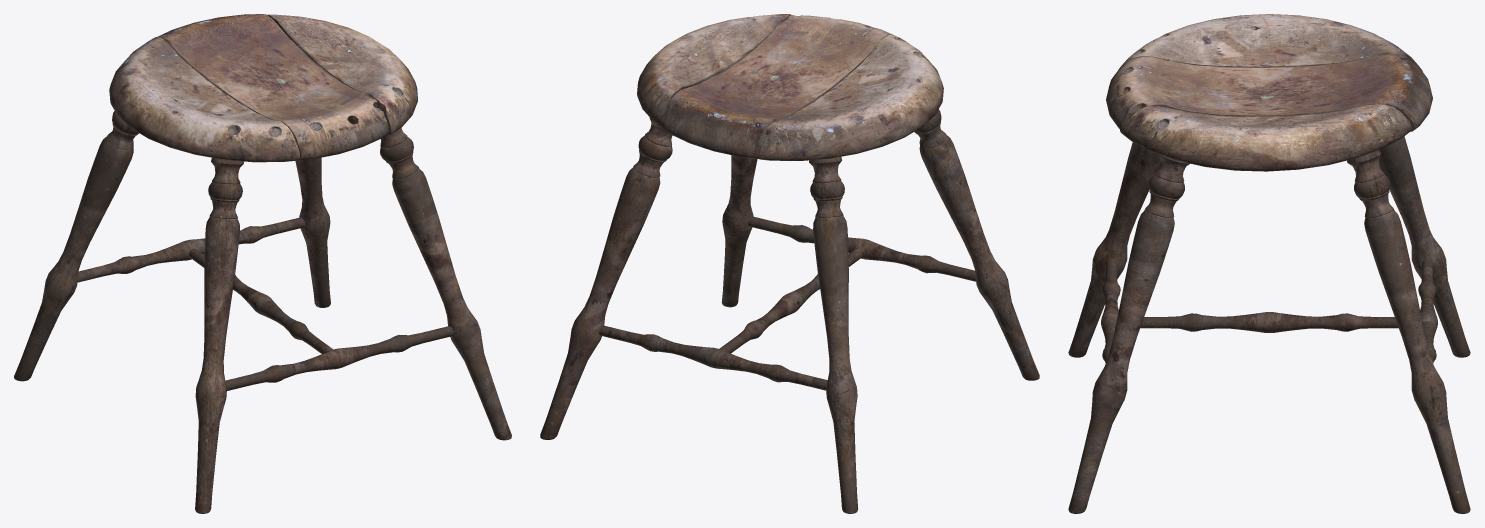
The model's file is wooden_stool_01.glb.
3 renders of one model, left to right at view 1: azimuth 30°, elevation 25°; view 2: azimuth 150°, elevation 25°; view 3: azimuth 270°, elevation 25°, orthographic. The views are drawn at different scales.
Parts seen in each view (by area): view 1: wooden_stool_01; view 2: wooden_stool_01; view 3: wooden_stool_01.
Part boxes in pixels (x1,y1,x2,y2): wooden_stool_01: (14, 14, 511, 513); wooden_stool_01: (540, 14, 1039, 513); wooden_stool_01: (1068, 14, 1470, 513).
Bounding box in the file's own units: 0.4254 × 0.4374 × 0.4424.
1 material, 1 textured.
